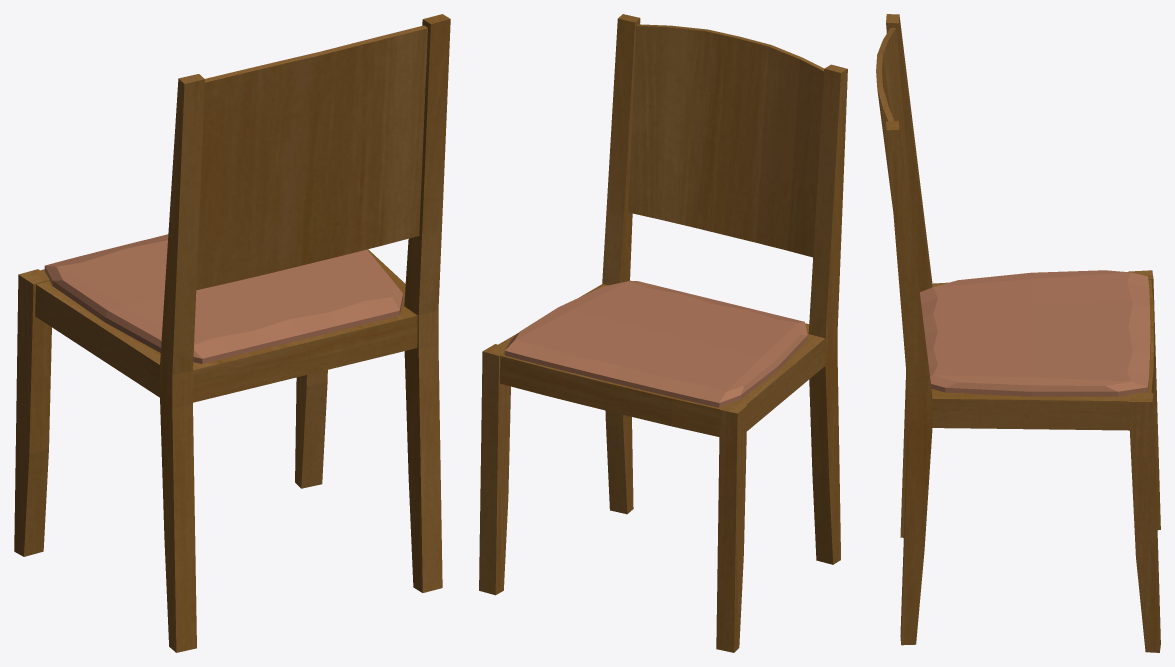
File: chair.dae
The picture shows the model from 3 angles, left to right: view 1: azimuth 30°, elevation 25°; view 2: azimuth 150°, elevation 25°; view 3: azimuth 270°, elevation 25°; orthographic projection. The views are drawn at different scales.
Parts seen in each view (by area): view 1: chair; view 2: chair; view 3: chair.
Part boxes in pixels (<box>): chair: <box>14,14,450,652</box>; chair: <box>479,14,847,652</box>; chair: <box>876,14,1160,652</box>.
Bounding box in the file's own units: 0.484 × 0.442 × 0.884.
